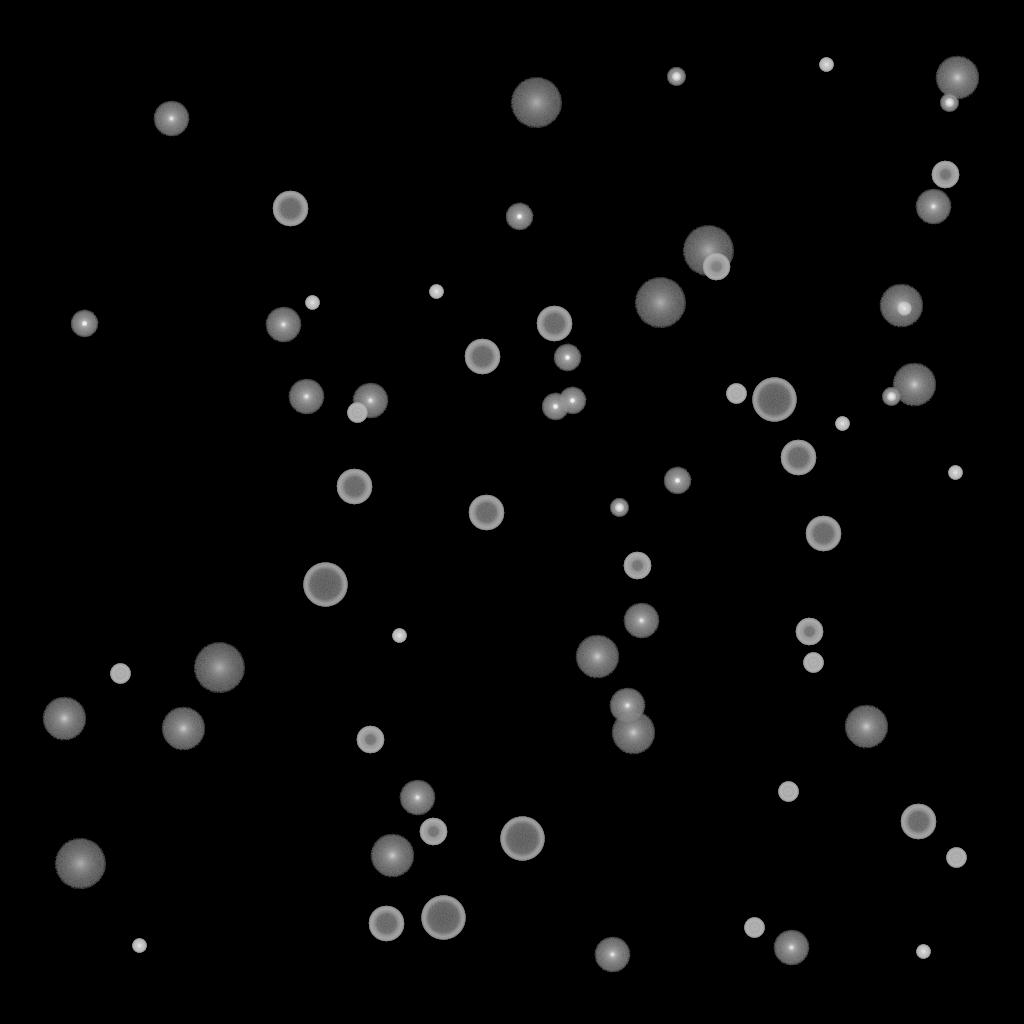depth:-10: (663, 467, 691, 495), (70, 310, 98, 338), (553, 344, 581, 372), (505, 203, 533, 231), (541, 393, 569, 421), (558, 387, 586, 415)
depth:-20: (610, 499, 628, 517), (940, 94, 958, 112), (882, 388, 900, 406), (667, 68, 685, 86)
depth:-30: (897, 302, 911, 316), (392, 629, 406, 643), (429, 285, 443, 299), (835, 417, 849, 431), (916, 945, 930, 959), (305, 296, 319, 310), (132, 939, 146, 953), (948, 466, 962, 480), (819, 58, 833, 72)
depth:-40: (726, 384, 746, 404), (946, 848, 966, 868), (778, 782, 798, 802), (744, 918, 764, 938), (803, 653, 823, 673), (347, 403, 367, 423), (110, 664, 130, 684)
depth:-50: (623, 552, 651, 580), (931, 161, 959, 189), (702, 253, 730, 281), (419, 818, 447, 846), (356, 726, 384, 754), (795, 618, 823, 646)
depth:-60: (468, 495, 504, 531), (900, 804, 936, 840), (368, 906, 404, 942), (336, 469, 372, 505), (805, 516, 841, 552), (780, 440, 816, 476), (272, 191, 308, 227), (536, 306, 572, 342), (464, 339, 500, 375)
depth:-70: (303, 563, 347, 607), (421, 896, 465, 940), (752, 378, 796, 422), (500, 817, 544, 861)
depth:0: (399, 780, 435, 816), (352, 383, 388, 419), (773, 930, 809, 966), (623, 603, 659, 639), (288, 379, 324, 415), (153, 101, 189, 137), (594, 937, 630, 973), (915, 189, 951, 225), (609, 688, 645, 724), (265, 307, 301, 343)
depth:10: (844, 705, 888, 749), (370, 834, 414, 878), (575, 635, 619, 679), (892, 363, 936, 407), (42, 697, 86, 741), (611, 711, 655, 755), (879, 284, 923, 328), (935, 56, 979, 100), (161, 707, 205, 751)
depth:20: (193, 643, 245, 693), (682, 226, 734, 276), (634, 278, 686, 328), (54, 839, 106, 889), (510, 78, 562, 128)
